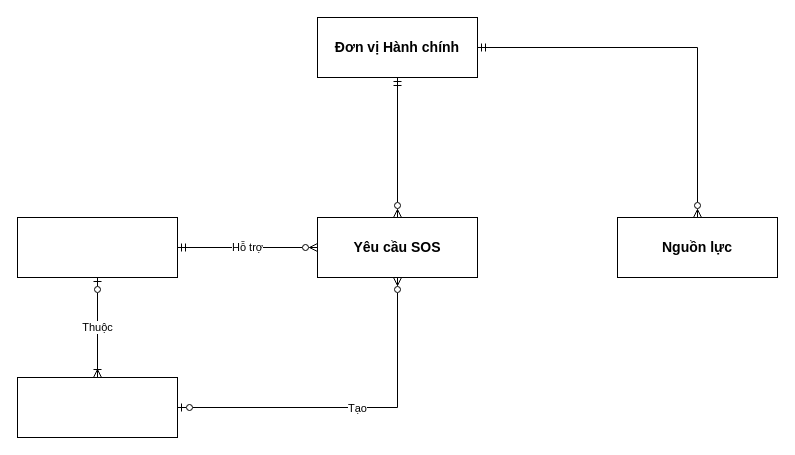
This 795x455 diagram has some shape labels left out. The box of each missing label's shape, as (x1, y1, x2, y2) in pixels:
Người dùng: (16, 376, 178, 438)
Đội cứu hộ: (16, 216, 178, 278)
